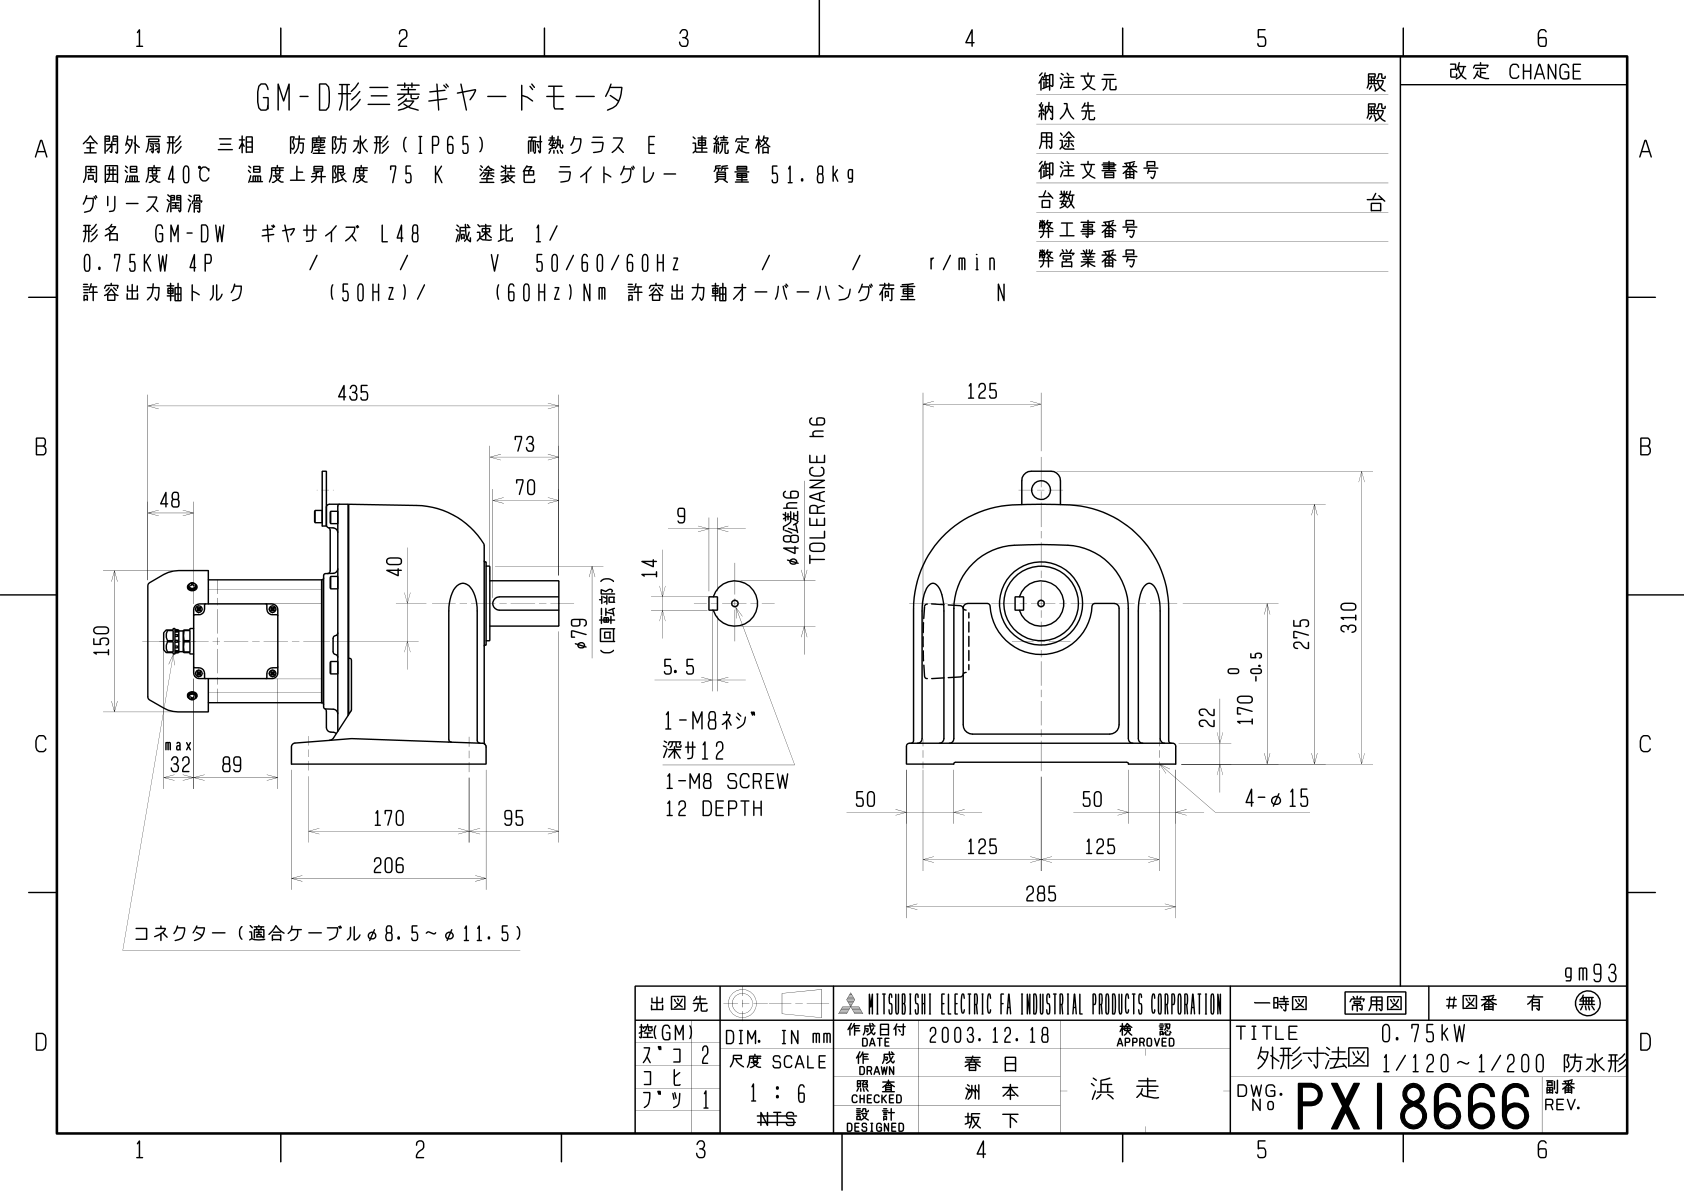GM_D_IP65_三相_脚: (85, 349, 1393, 973)
